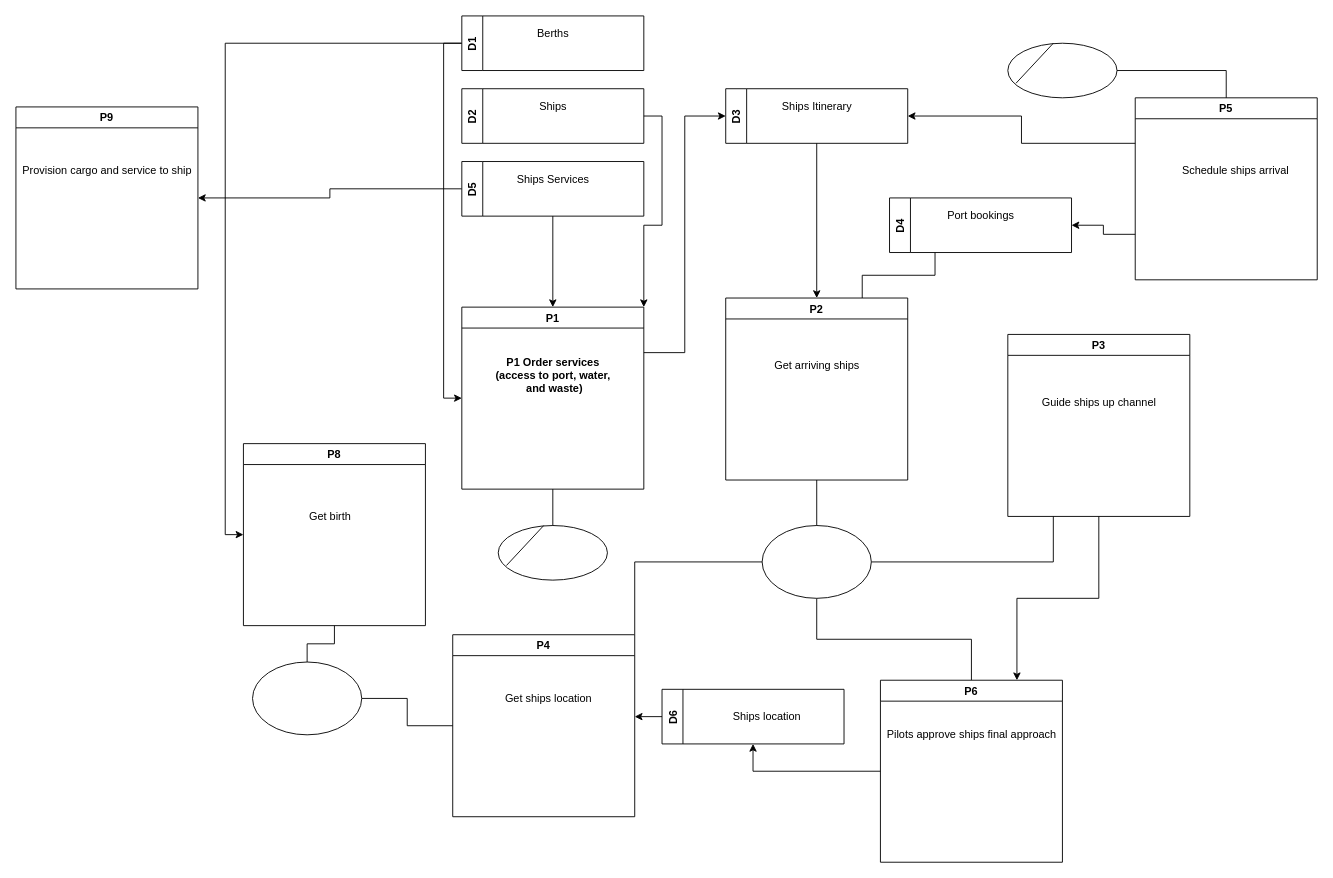
Some shapes in this 1333 by 878 pixel diagram are drawn without their labels. Here are the shapes that lost their labels. From the top down, the centre of each, then its label:
At (1062,70): "Ship owners".
At (552,552): "Capitan".
At (816,561): "Port pilot".
At (307,698): "Stevedores".
